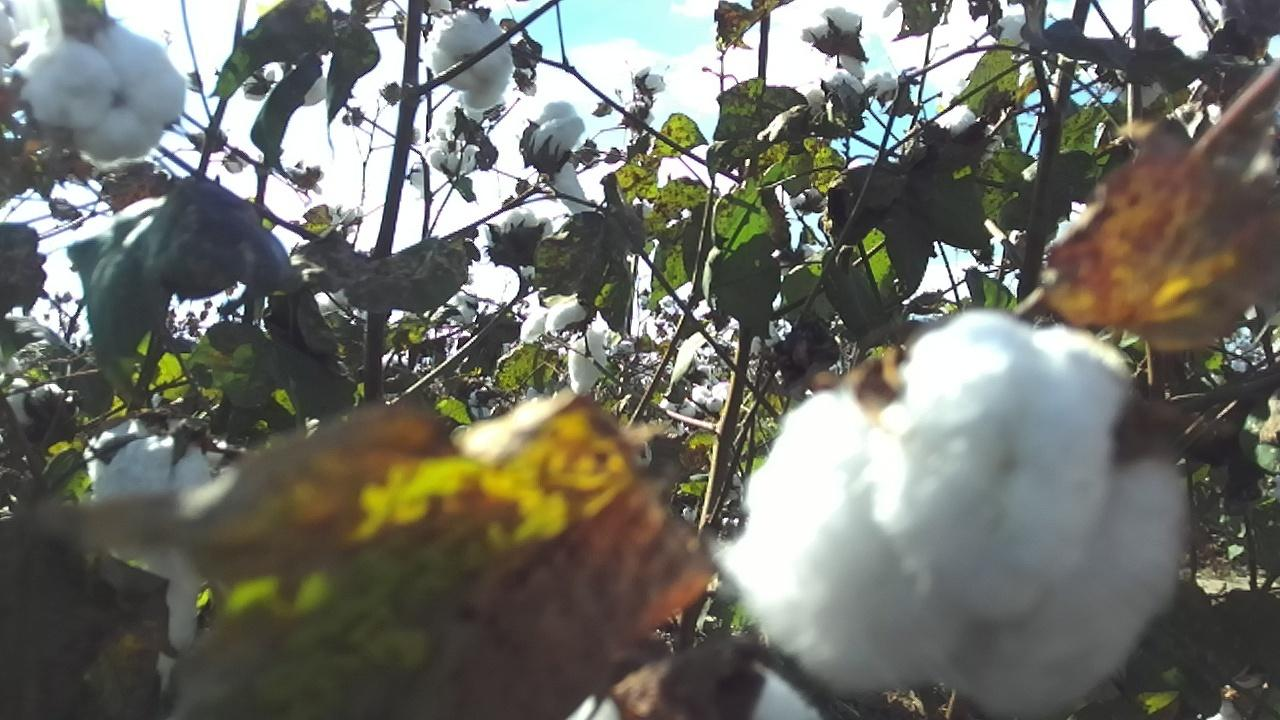cotton_ready: (709, 310, 1192, 720), (92, 430, 219, 692), (23, 25, 189, 170), (585, 652, 825, 720), (519, 299, 608, 395), (527, 99, 596, 213), (433, 16, 514, 111), (485, 210, 557, 273), (423, 118, 485, 177)
